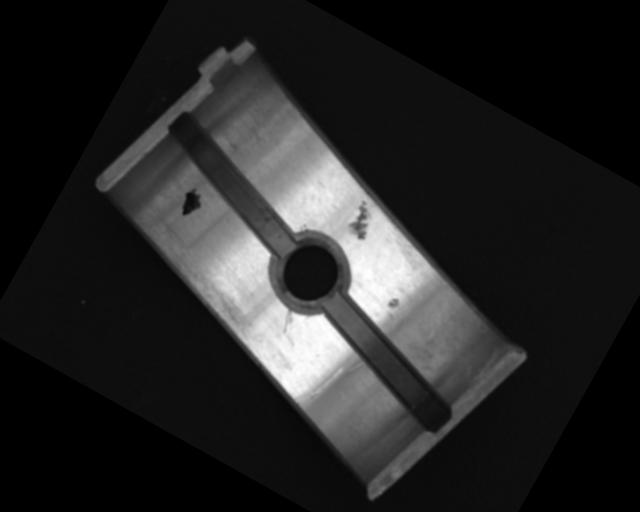blot: (175, 184, 208, 222)
bruise: (343, 198, 383, 244), (385, 294, 403, 313)
gap: (139, 109, 324, 261), (299, 291, 474, 434)
hole: (255, 221, 362, 329)
nick: (292, 354, 346, 417), (276, 306, 299, 334)
scratch: (117, 219, 265, 335)
